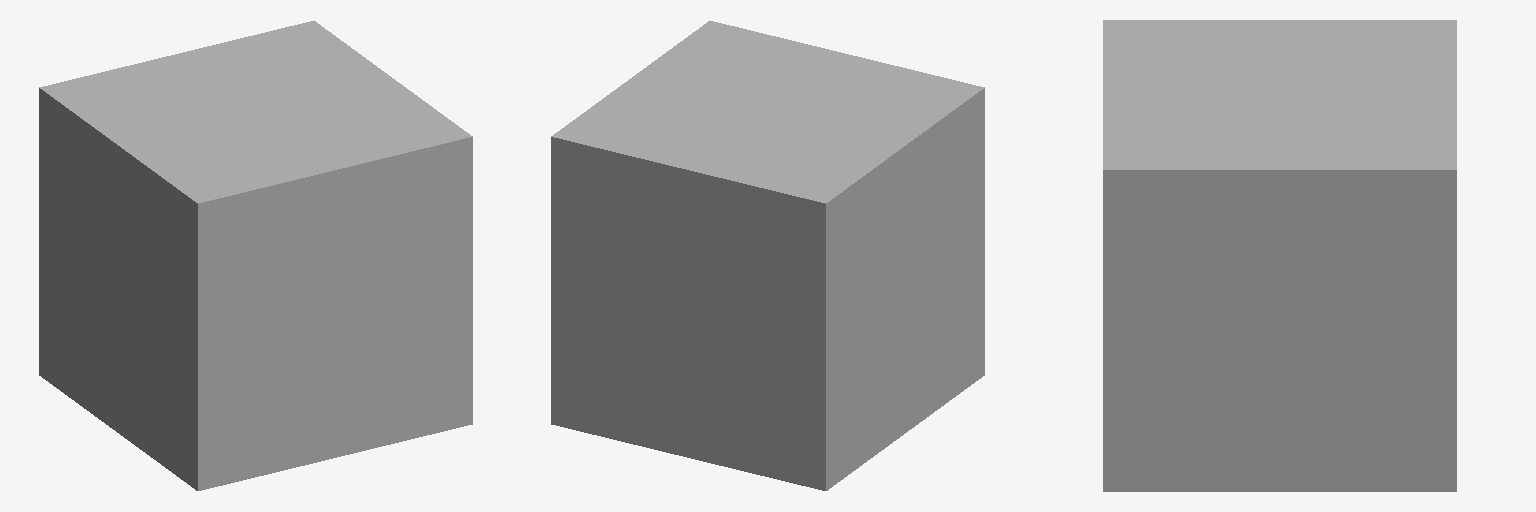
The robot description file, URDF, robot "root":
<robot name="root">
  <link name="link_ycb~cubei16_convex_piece_0">
    <inertial>
      <origin xyz="0 0 0" rpy="0 0 0"/>
      <mass value="7.03E-02"/>
      <inertia ixx="7.92E-06" ixy="-2.64E-14" ixz="7.62E-11" iyy="7.92E-06" iyz="8.79E-15" izz="7.92E-06"/>
    </inertial>
    <visual>
      <origin xyz="0 0 0" rpy="0 0 0"/>
      <geometry>
        <mesh filename="ycb~cubei16_convex_piece_0.obj" scale="1.0000E+00 1.0000E+00 1.0000E+00"/>
      </geometry>
      <material name="">
        <color rgba="7.50E-01 7.50E-01 7.50E-01 1"/>
      </material>
    </visual>
    <collision>
      <origin xyz="0 0 0" rpy="0 0 0"/>
      <geometry>
        <mesh filename="ycb~cubei16_convex_piece_0.obj" scale="1.0000E+00 1.0000E+00 1.0000E+00"/>
      </geometry>
    </collision>
  </link>
</robot>

--- Render facts (derived) ---
3 views of the same robot in one strip: view 1: azimuth 30°, elevation 25°; view 2: azimuth 150°, elevation 25°; view 3: azimuth 270°, elevation 25° (orthographic).
Robot: root — 1 links, 0 joints (none); root link link_ycb~cubei16_convex_piece_0; default pose: every joint at zero.
Links seen in each view (by area): view 1: link_ycb~cubei16_convex_piece_0; view 2: link_ycb~cubei16_convex_piece_0; view 3: link_ycb~cubei16_convex_piece_0.
Boxes of the visible links, left/top/right/bottom form: link_ycb~cubei16_convex_piece_0: left=39, top=21, right=472, bottom=490; link_ycb~cubei16_convex_piece_0: left=551, top=21, right=984, bottom=490; link_ycb~cubei16_convex_piece_0: left=1103, top=20, right=1456, bottom=491.
Size in the robot's own frame: 0.026 by 0.026 by 0.026 metres.
1 mesh visuals loaded from 1 distinct referenced files (1 OBJ).